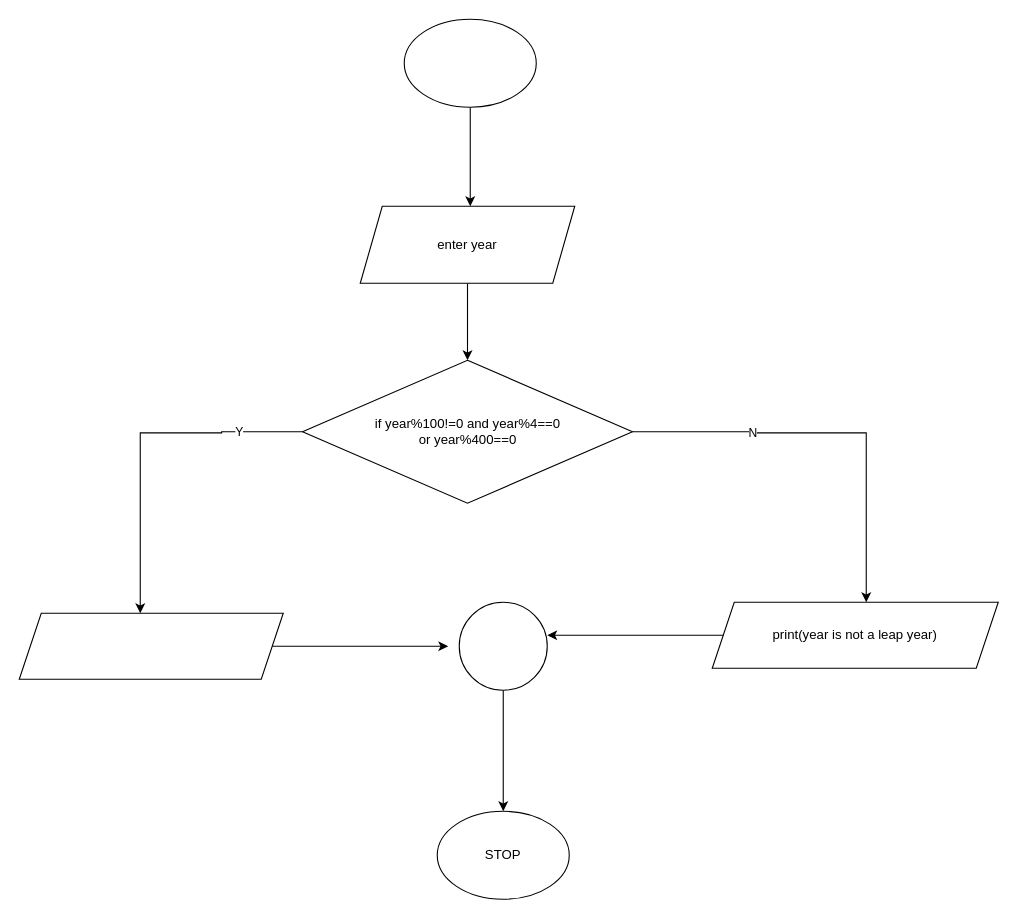
Some shapes in this 1018 by 919 pixel diagram are drawn without their labels. Each missing label, with the centre of its shape:
"print(year is a leap year)" goes at point 150,645.
"START" goes at point 469,62.
